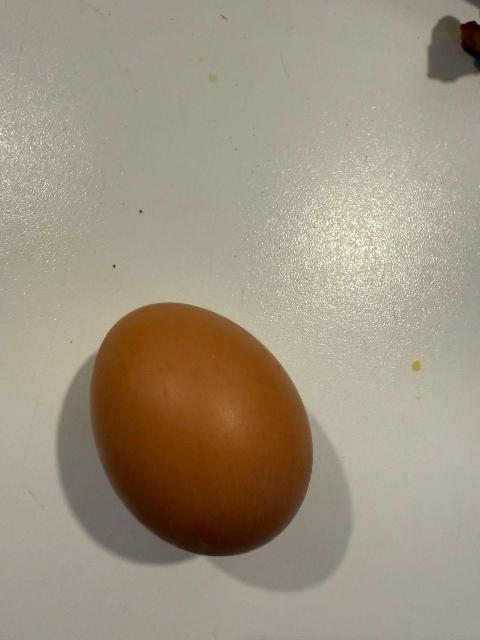Organik: (92, 295, 317, 559)
